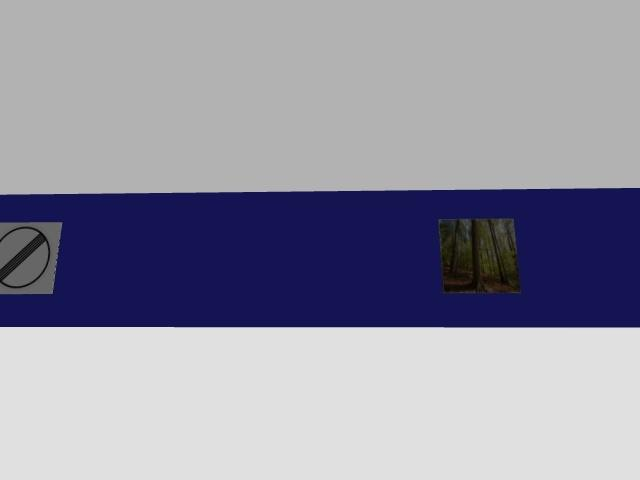fastsign: (0, 222, 61, 294)
tree: (487, 219, 507, 283), (471, 219, 484, 291), (502, 219, 518, 276), (449, 219, 459, 277)
